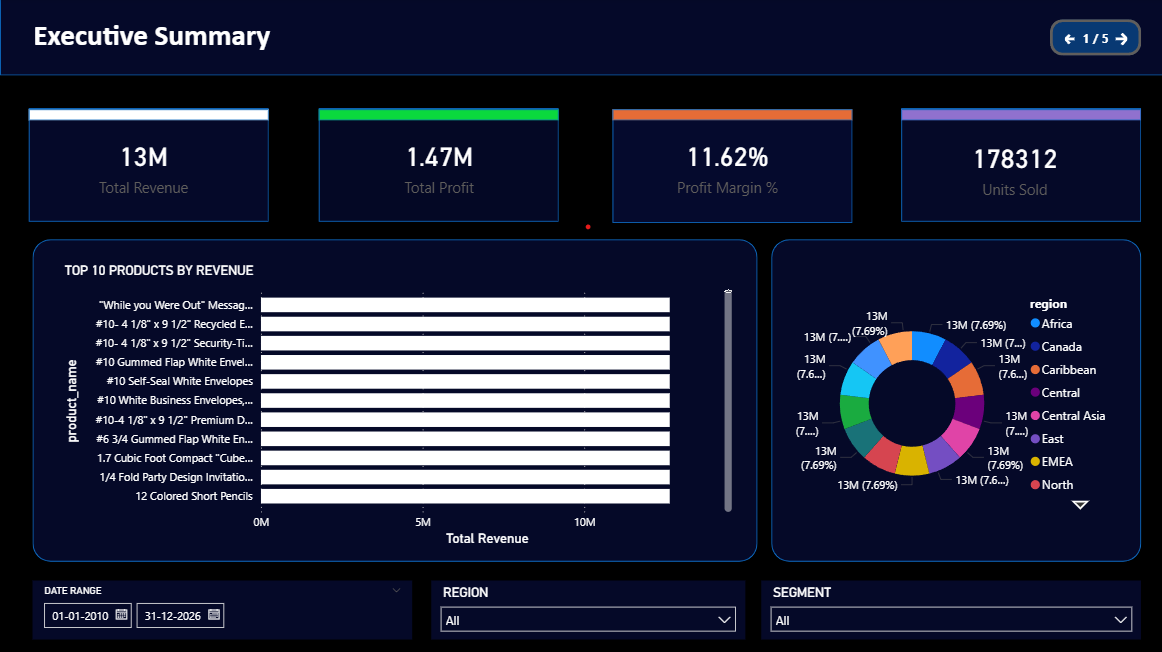

The dashboard page shown, as its layout file describes it:
{"tool":"powerbi","page":{"name":"Executive Summary","canvas":[1280,720],"ordinal":0},"visuals":[{"type":"shape","box":[0,0,1280.3,85.1],"z":0},{"type":"shape","box":[35.7,264.8,795.9,354],"z":0,"group":"g2"},{"type":"shape","box":[846.7,264.8,406.2,354],"z":0,"group":"g1"},{"type":"textbox","box":[31.6,16.5,583.2,56.3],"z":1000},{"type":"shape","box":[31.6,120.8,263.5,124.9],"z":2000},{"type":"donutChart","fields":{"Y":["customer_rfm.Total Revenue"],"Category":["dim_store.region"]},"box":[867.3,321.1,377.4,248.4],"z":2000,"group":"g1"},{"type":"shape","box":[349.9,120.8,263.5,124.9],"z":3000},{"type":"clusteredBarChart","title":"TOP 10 PRODUCTS BY REVENUE","fields":{"Category":["dim_product.product_name"],"Y":["customer_rfm.Total Revenue"]},"box":[65.8,290.5,742.7,316.2],"z":3000,"group":"g2"},{"type":"shape","box":[672.4,122.1,263.5,124.9],"z":4000},{"type":"shape","box":[989.4,120.8,263.5,124.9],"z":5000},{"type":"shape","box":[31.6,122.1,263.5,12.3],"z":6000},{"type":"shape","box":[349.9,122.1,263.5,12.3],"z":7000},{"type":"shape","box":[672.4,122.1,263.5,12.3],"z":8000},{"type":"shape","box":[989.4,122.1,263.5,12.3],"z":9000},{"type":"card","fields":{"Values":["customer_rfm.Total Revenue"]},"box":[0,72.7,315.6,222.3],"z":10000},{"type":"card","fields":{"Values":["customer_rfm.Total Profit"]},"box":[325.2,72.7,314.2,222.3],"z":11000},{"type":"card","fields":{"Values":["customer_rfm.Profit Margin %"]},"box":[639.5,72.7,318.4,222.3],"z":12000},{"type":"card","fields":{"Values":["customer_rfm.Units Sold"]},"box":[948.2,74.1,332.1,222.3],"z":13000},{"type":"slicer","fields":{"Values":["dim_date.full_date"]},"box":[35.7,639.5,417.2,64.5],"z":14000},{"type":"slicer","fields":{"Values":["dim_store.region"]},"box":[473.4,639.5,344.4,64.5],"z":15000},{"type":"group","id":"g1","title":"Group 1","box":[846.7,264.8,406.2,354],"z":16000},{"type":"slicer","fields":{"Values":["dim_customer.segment"]},"box":[835.7,639.5,417.2,64.5],"z":17000},{"type":"actionButton","box":[1152.7,23.3,100.2,39.8],"z":18000},{"type":"actionButton","box":[1165,35.7,28.8,19.2],"z":19000},{"type":"actionButton","box":[1219.9,34.3,24.7,22],"z":20000},{"type":"group","id":"g2","title":"Group 2","box":[35.7,264.8,795.9,354],"z":21000}]}

Visuals, with their boxes in screenshot pixels (x1, y1, x2, y2), scaled from the page's 1280x720 canvas onto the 1162x652 screenshot:
shape: (0,0,1161,77)
shape: (32,240,755,560)
shape: (769,240,1137,560)
textbox: (29,15,558,66)
shape: (29,109,268,222)
donutChart - customer_rfm.Total Revenue x dim_store.region: (787,291,1130,516)
shape: (318,109,557,222)
"TOP 10 PRODUCTS BY REVENUE" clusteredBarChart: (60,263,734,549)
shape: (610,111,850,224)
shape: (898,109,1137,222)
shape: (29,111,268,122)
shape: (318,111,557,122)
shape: (610,111,850,122)
shape: (898,111,1137,122)
card - customer_rfm.Total Revenue: (0,66,287,267)
card - customer_rfm.Total Profit: (295,66,580,267)
card - customer_rfm.Profit Margin %: (581,66,870,267)
card - customer_rfm.Units Sold: (861,67,1161,268)
slicer - dim_date.full_date: (32,579,411,638)
slicer - dim_store.region: (430,579,742,638)
"Group 1" group: (769,240,1137,560)
slicer - dim_customer.segment: (759,579,1137,638)
actionButton: (1046,21,1137,57)
actionButton: (1058,32,1084,50)
actionButton: (1107,31,1130,51)
"Group 2" group: (32,240,755,560)
